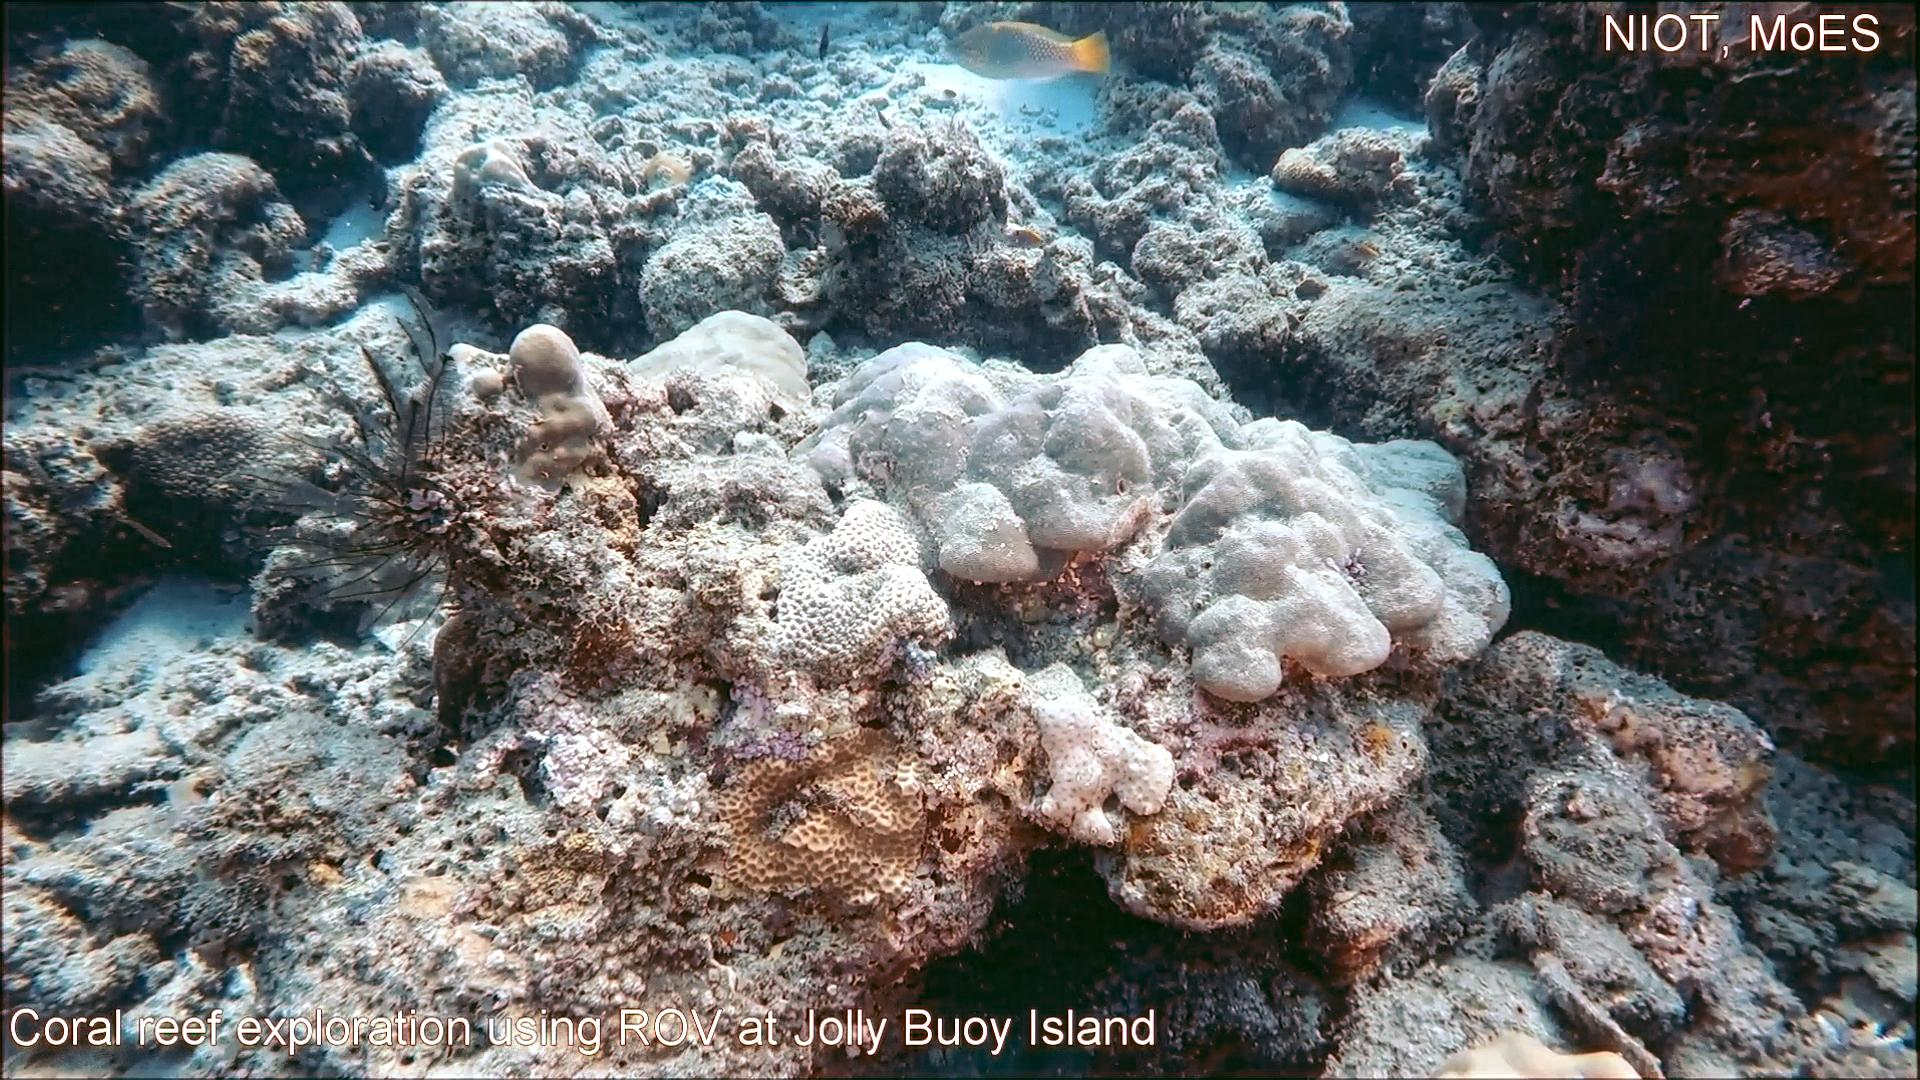Feather star-Crinoid star: (193, 269, 485, 673)
Goniastrea-Goniastrea pectinata: (770, 491, 961, 695)
Porites-Porites pukoensis: (1040, 335, 1520, 709)
Turbinaria-Turbinaria stellulata: (120, 397, 314, 513)
